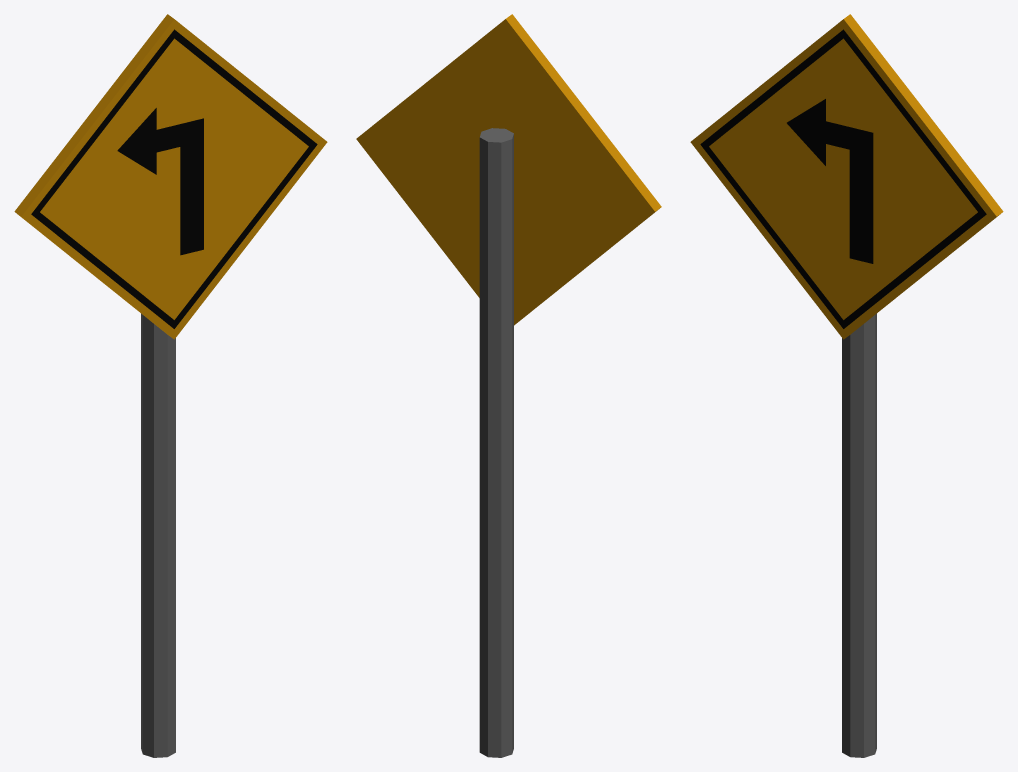
File: Left_Sign.fbx
3 views of the same model, side by side, from view 1: azimuth 30°, elevation 25°; view 2: azimuth 150°, elevation 25°; view 3: azimuth 330°, elevation 25° (orthographic). The views are drawn at different scales.
Visible parts, largest first — view 1: Left Sign; view 2: Left Sign; view 3: Left Sign.
Boxes of the visible parts, box(x1,y1,x2,y2) form: Left Sign: box(14, 14, 327, 757); Left Sign: box(356, 14, 661, 757); Left Sign: box(690, 14, 1003, 757).
Size of the model in its own units: 0.942 by 2.18 by 0.133.
